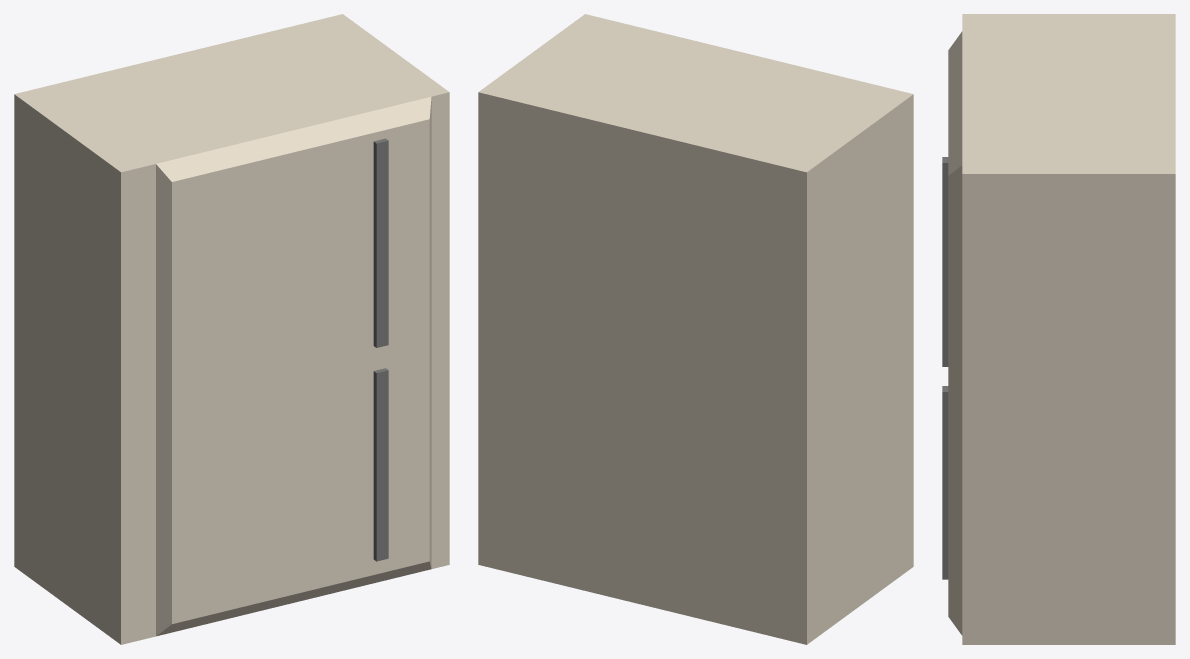
The model's file is fridge.fbx.
The picture shows the model from 3 angles, left to right: view 1: azimuth 30°, elevation 25°; view 2: azimuth 150°, elevation 25°; view 3: azimuth 270°, elevation 25°; orthographic projection.
Parts seen in each view (by area): view 1: Cube; view 2: Cube; view 3: Cube.
Boxes of the visible parts, x1=… form: Cube: x1=14, y1=14, x2=449, y2=644; Cube: x1=478, y1=14, x2=913, y2=644; Cube: x1=942, y1=14, x2=1175, y2=644.
Bounding box in the file's own units: 355 × 488 × 219.
